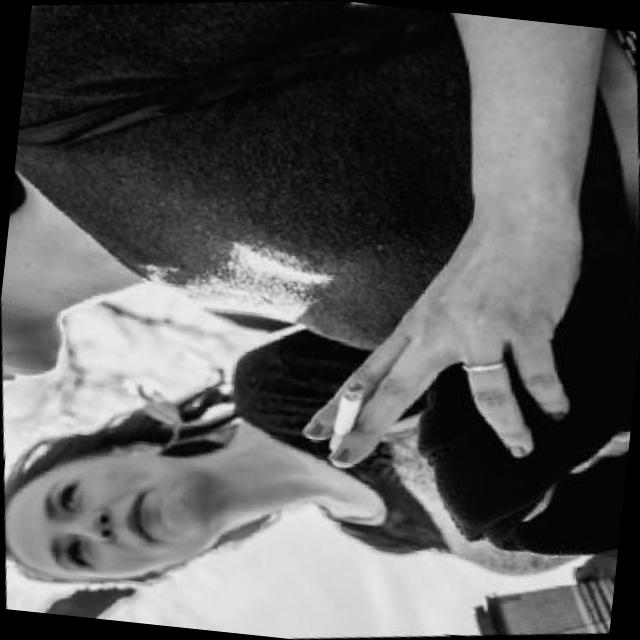cigarette: (317, 378, 374, 463)
